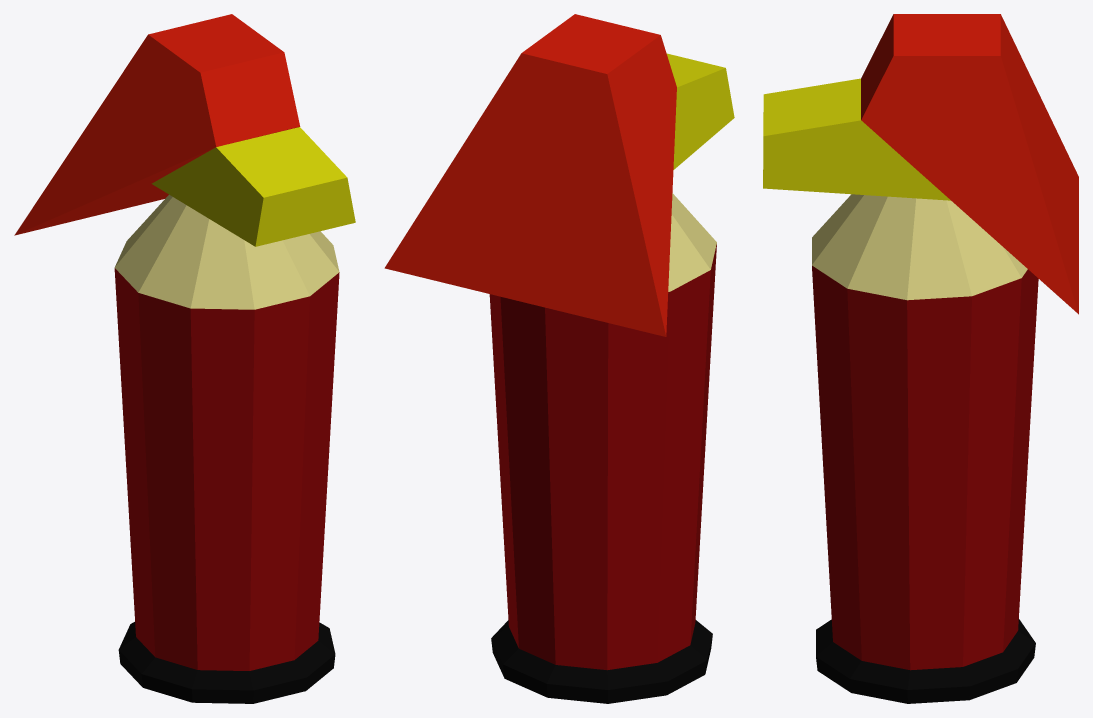
File: Sentinel.fbx
3 views of the same model, side by side, from view 1: azimuth 30°, elevation 25°; view 2: azimuth 150°, elevation 25°; view 3: azimuth 270°, elevation 25° (orthographic). The views are drawn at different scales.
Parts seen in each view (by area): view 1: Body, Helmet, Nose; view 2: Body, Helmet, Nose; view 3: Body, Helmet, Nose.
Part boxes in pixels (x1,y1,x2,y2): Body: [114, 194, 339, 703]; Helmet: [14, 14, 300, 235]; Nose: [151, 127, 355, 246]; Body: [489, 193, 716, 703]; Helmet: [384, 14, 676, 336]; Nose: [666, 53, 734, 169]; Body: [812, 194, 1038, 703]; Helmet: [861, 14, 1078, 314]; Nose: [763, 78, 950, 200].
Bounding box in the file's own units: 117 × 246 × 113.
